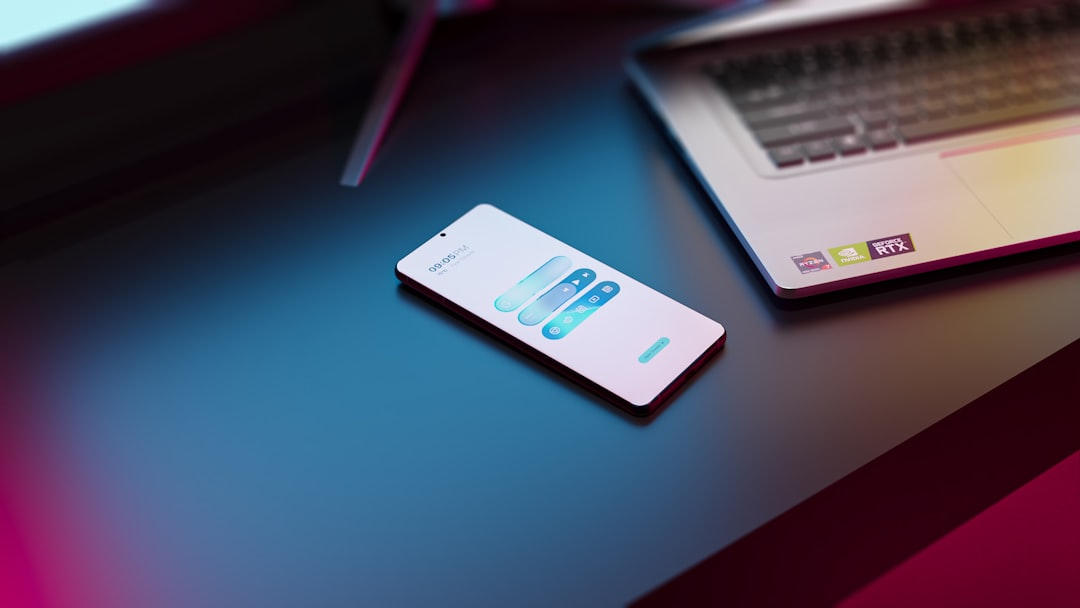phone: (395, 200, 728, 426)
